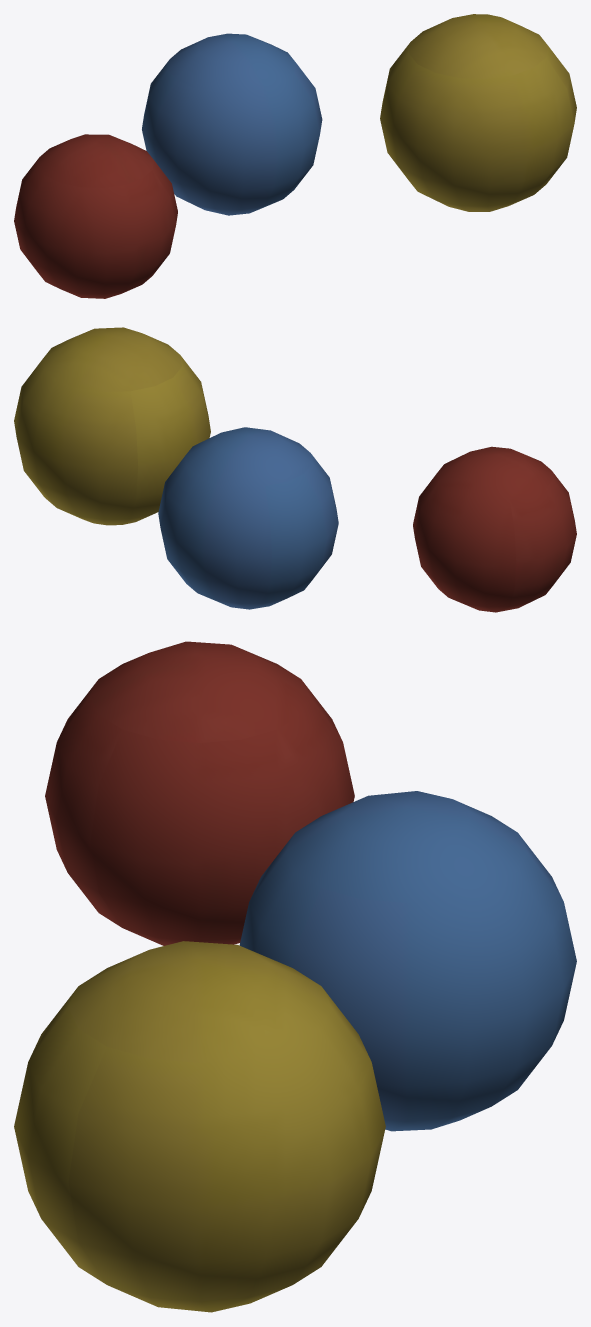
The model's file is TY19_BouncyBalls.glb.
3 views of the same model, one above another, from view 1: azimuth 30°, elevation 25°; view 2: azimuth 150°, elevation 25°; view 3: azimuth 270°, elevation 25° (orthographic). The views are drawn at different scales.
Parts seen in each view (by area): view 1: TY19_BouncyBalls; view 2: TY19_BouncyBalls; view 3: TY19_BouncyBalls.
Part boxes in pixels (<box>): TY19_BouncyBalls: <box>14,14,576,298</box>; TY19_BouncyBalls: <box>14,327,576,612</box>; TY19_BouncyBalls: <box>14,641,576,1312</box>.
Bounding box in the file's own units: 0.15 × 0.0478 × 0.0723.
Materials: 3 (3 with a texture image).
